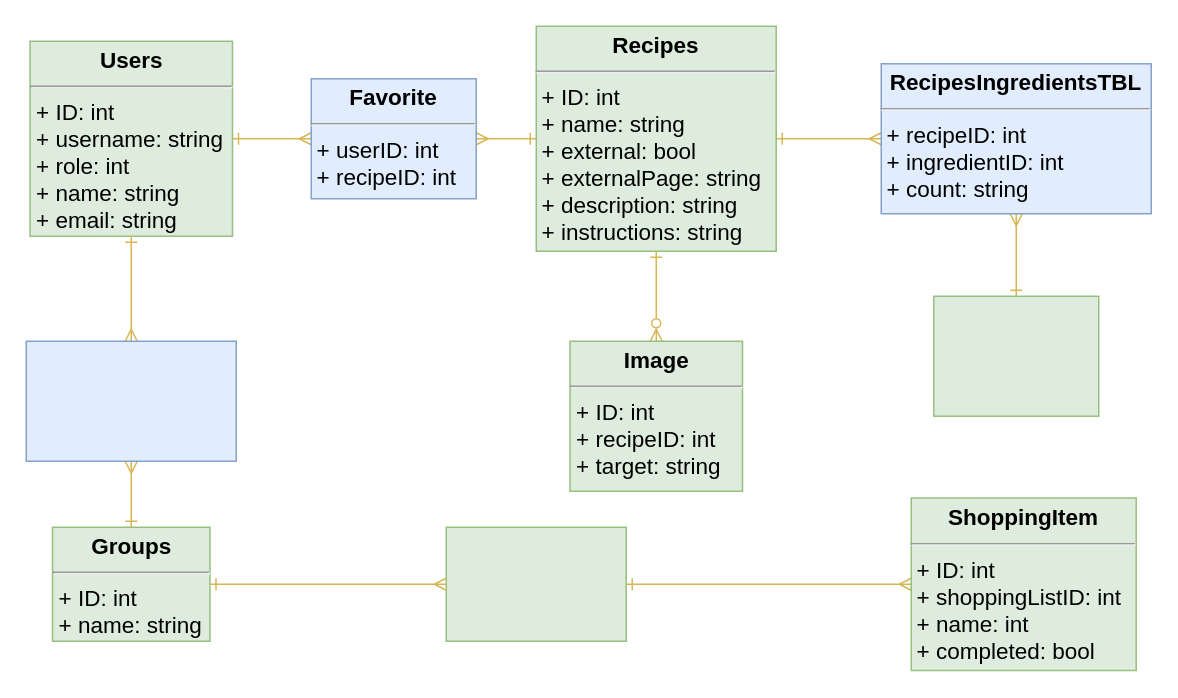
Image size: 1178x698. Some labels were removed from this diagram. The shapes that lost their labels are listed below. From the top down, each one's centre as x and y in pixels, then its label:
At point (1015, 355): "Ingredients + ID: int + name: string".
At point (130, 400): "UsersGroupsTBL + userID: int + groupID: int".
At point (535, 583): "ShoppingList + ID: int + name: string".
